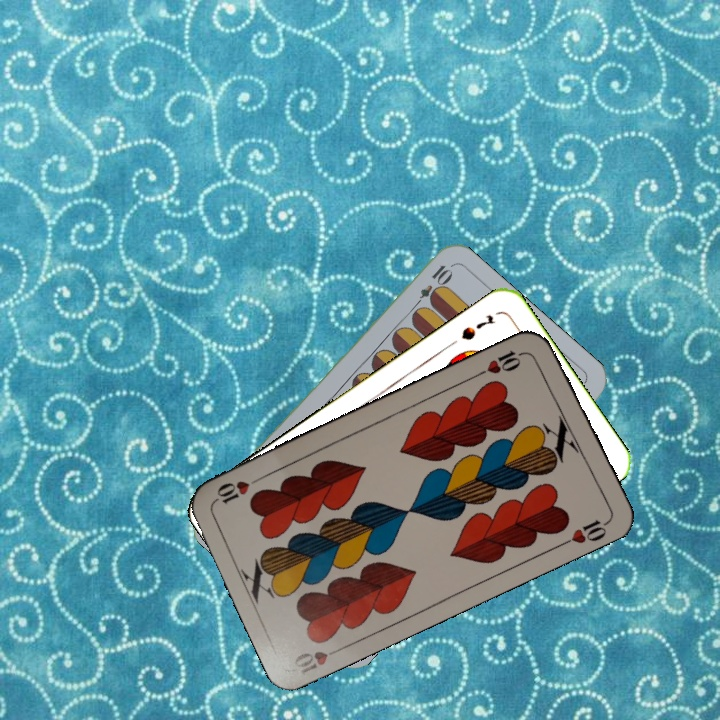E10: (408, 260, 453, 313)
H10: (290, 642, 348, 676), (474, 345, 531, 379)
S7: (457, 310, 497, 343)
